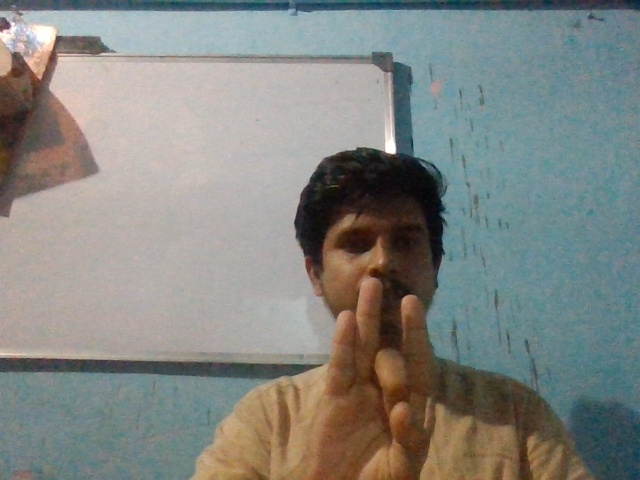Akash: (280, 278, 456, 480)
